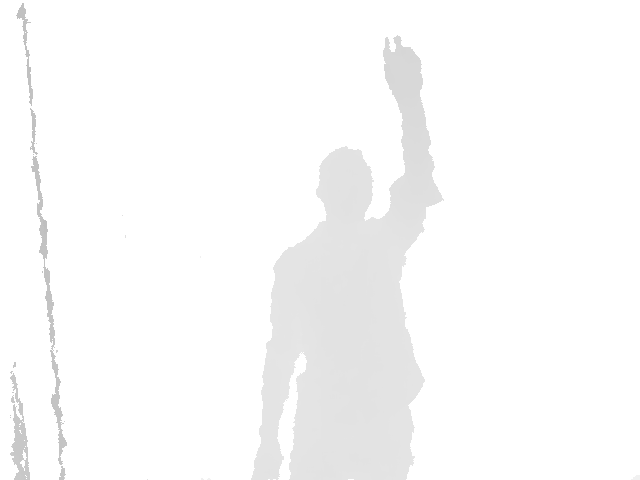hand: (383, 36, 424, 96)
hand_down: (250, 444, 284, 480)
head: (315, 146, 374, 216)
person: (250, 36, 445, 480)
